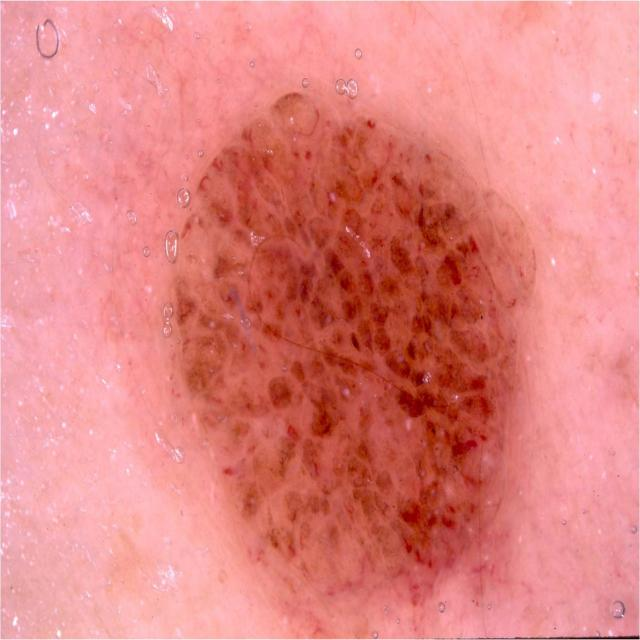Benign: (170, 87, 528, 621)
